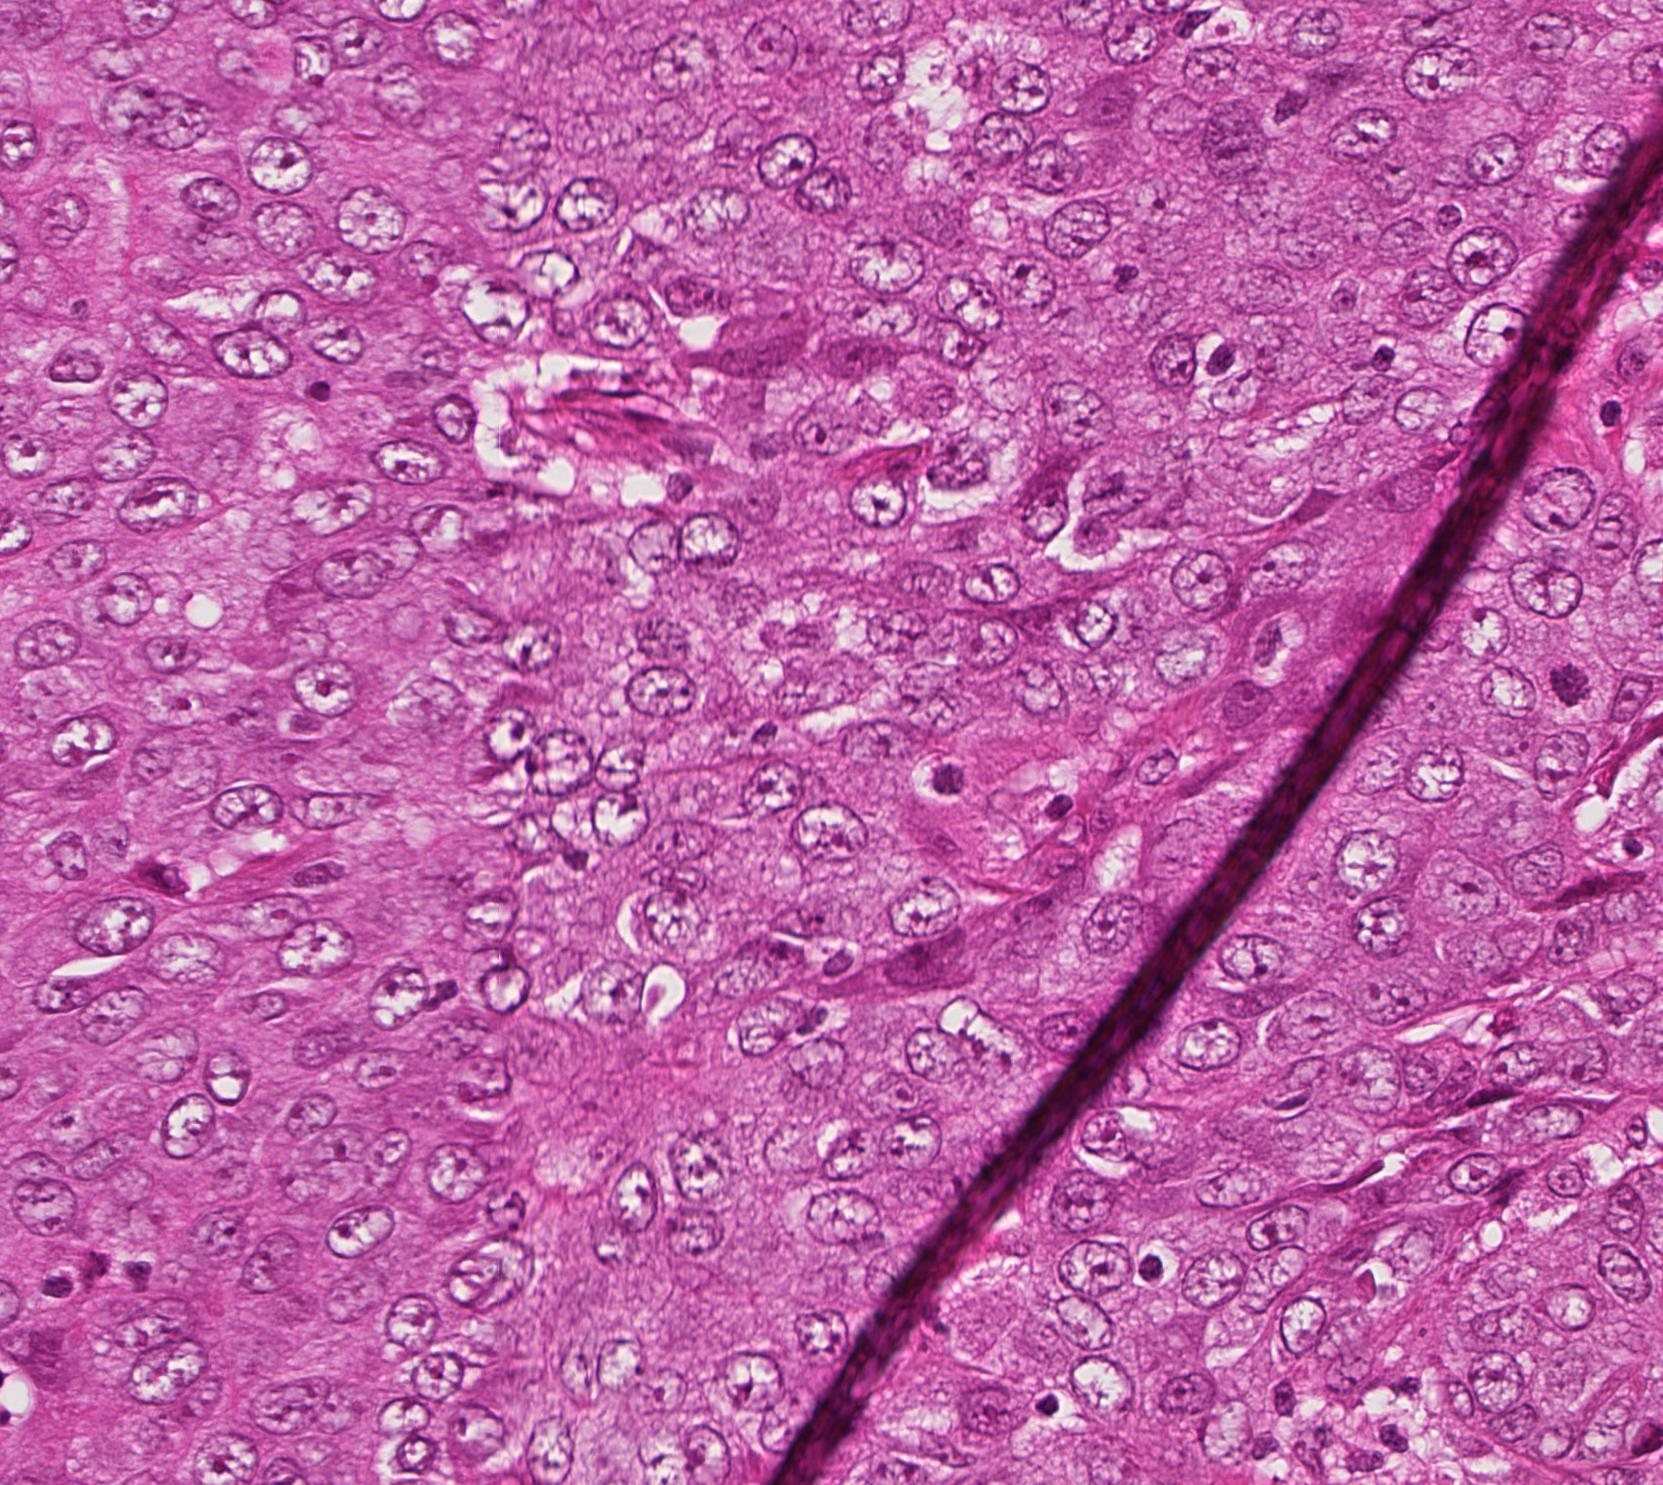mitosis: (1544, 652, 1604, 712), (912, 744, 972, 804)
